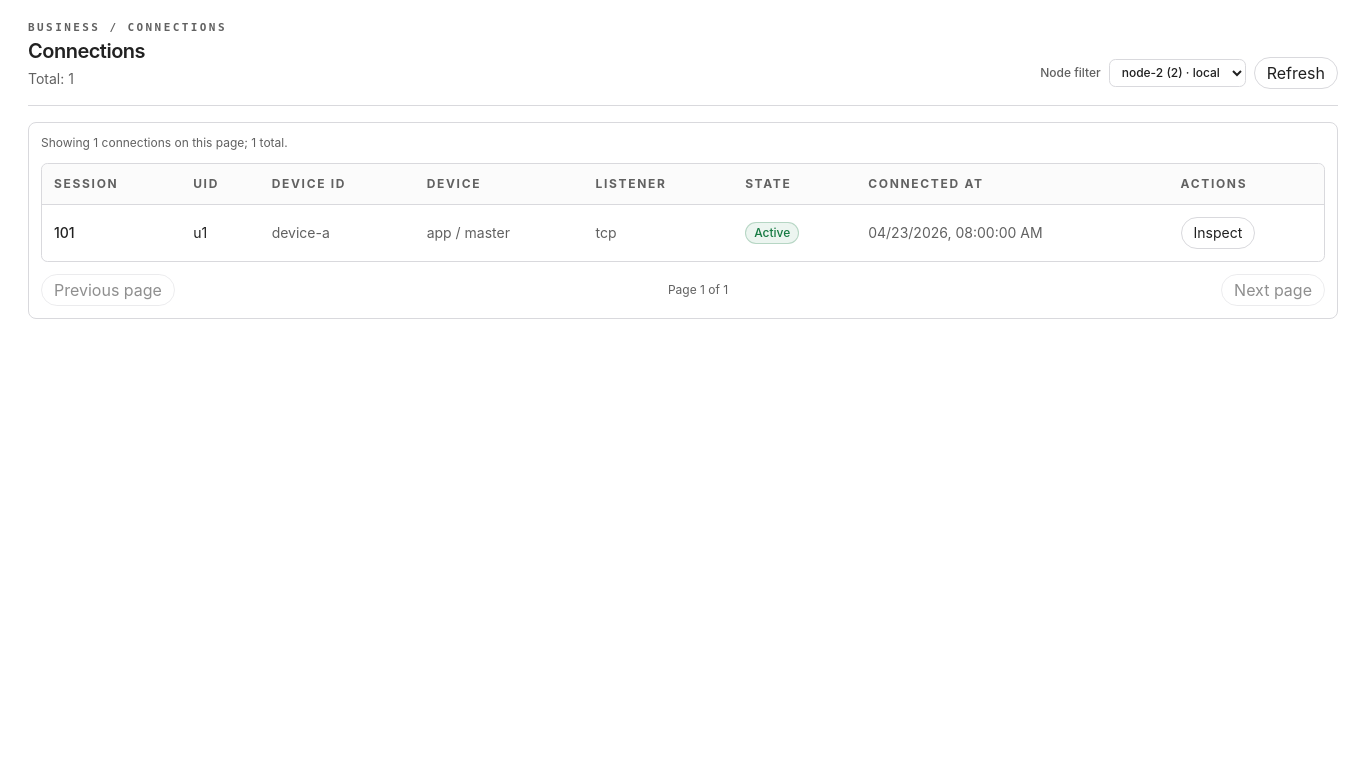
Test: renders connection rows and opens detail from manager APIs
Check: the text "u1" is shown, box [181, 204, 260, 260]
Click the button with aria-label "Inspect connection 101" at (1218, 232), box [1180, 216, 1255, 248]
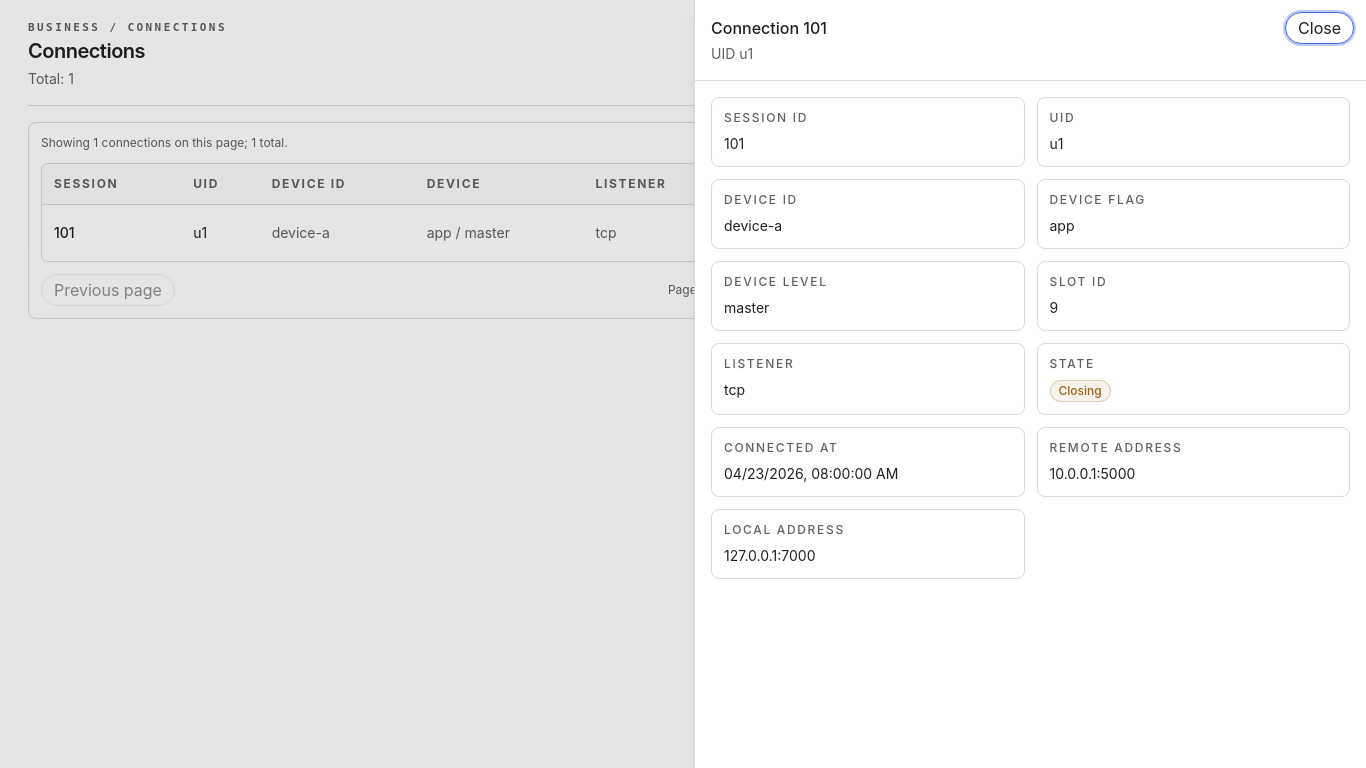
Check: the text "Remote address" is shown, box [1050, 440, 1182, 455]
